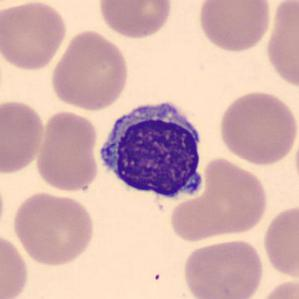Lymphocyte: (92, 92, 210, 208)
RBC: (171, 155, 270, 241), (48, 28, 130, 113), (10, 189, 97, 268), (216, 88, 298, 167), (33, 108, 100, 192), (179, 236, 266, 299), (1, 0, 69, 72), (196, 0, 274, 54), (0, 97, 47, 176), (263, 0, 299, 92), (168, 191, 229, 243), (96, 0, 174, 40), (260, 202, 298, 282), (0, 231, 31, 299), (254, 276, 298, 299), (0, 170, 7, 243)
